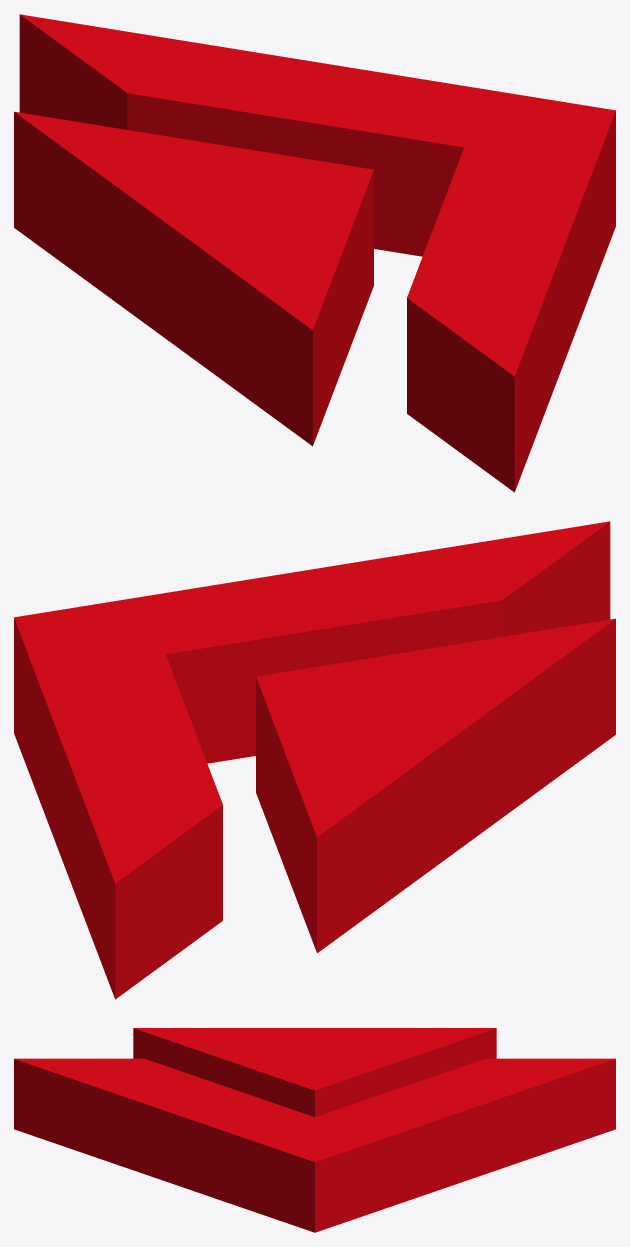
Rendered from FlechaNegativa.fbx.
The picture shows the model from 3 angles, top to bottom: view 1: azimuth 30°, elevation 25°; view 2: azimuth 150°, elevation 25°; view 3: azimuth 270°, elevation 25°; orthographic projection. The views are drawn at different scales.
Parts seen in each view (by area): view 1: Circle.001; view 2: Circle.001; view 3: Circle.001.
Boxes of the visible parts, x1,y1,x2,y2 form: Circle.001: [14, 14, 615, 492]; Circle.001: [14, 521, 615, 999]; Circle.001: [14, 1028, 615, 1232].
Size of the model in its own units: 195 by 47.79 by 369.
